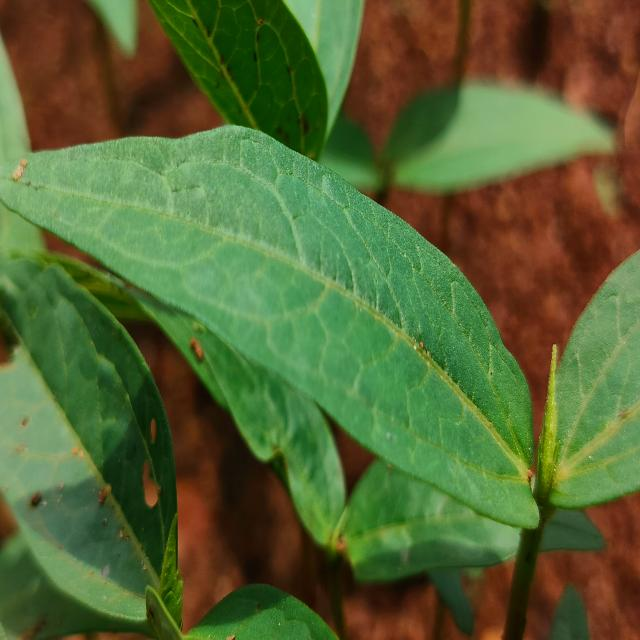Black gram_healthy: (0, 127, 547, 539)
